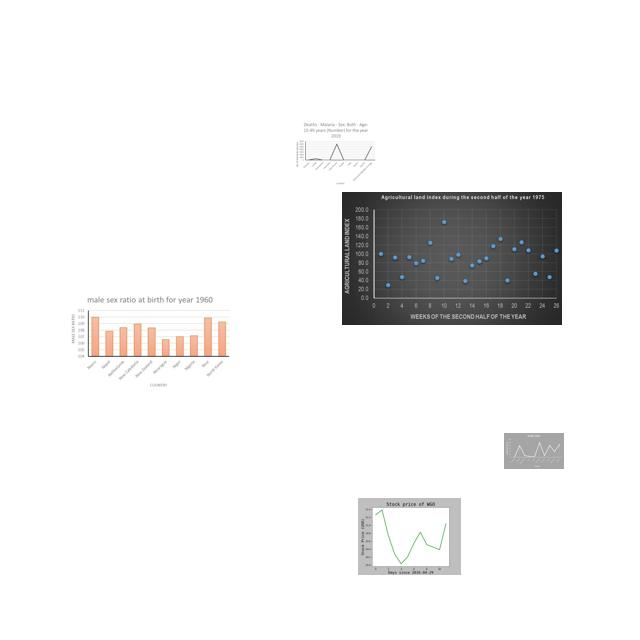Graph: (342, 192, 562, 325), (66, 291, 234, 393), (358, 498, 461, 575), (294, 121, 376, 185), (504, 433, 564, 469)
